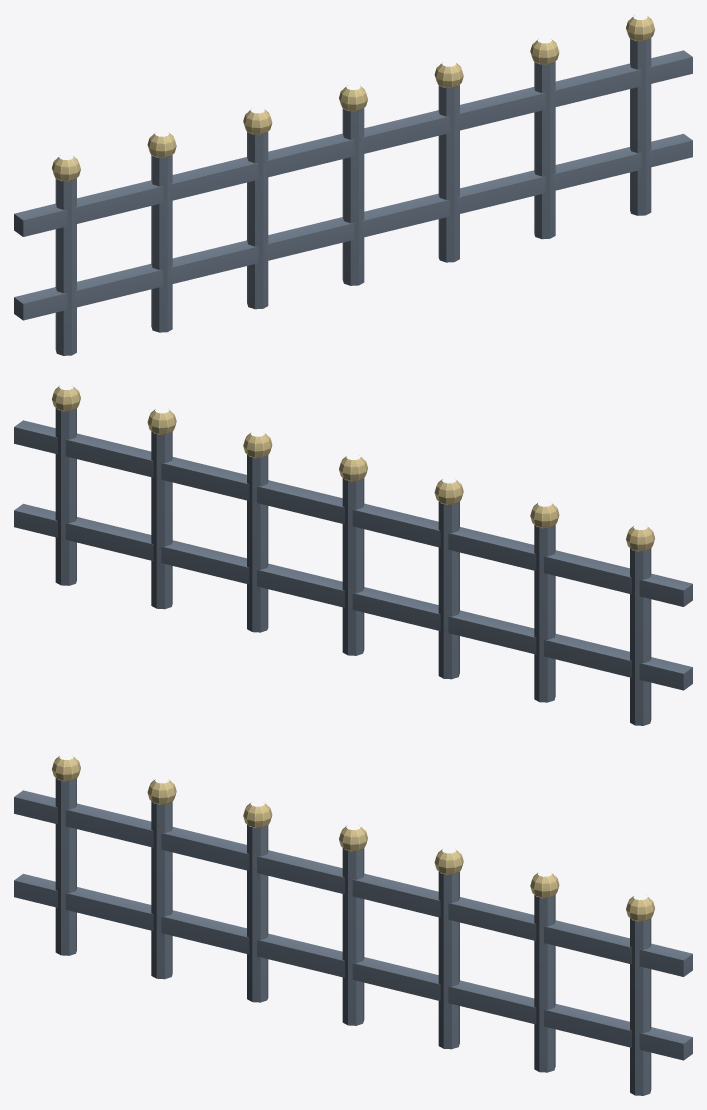
The model's file is park_fence.glb.
3 views of the same model, one above another, from view 1: azimuth 30°, elevation 25°; view 2: azimuth 150°, elevation 25°; view 3: azimuth 330°, elevation 25° (orthographic).
Parts seen in each view (by area): view 1: park_fence; view 2: park_fence; view 3: park_fence.
Boxes of the visible parts, x1=… form: park_fence: x1=14, y1=15, x2=692, y2=355; park_fence: x1=14, y1=385, x2=692, y2=725; park_fence: x1=14, y1=755, x2=692, y2=1095.
Bounding box in the file's own units: 4.2 × 1.18 × 0.1522.
Materials: 1 (1 with a texture image).
